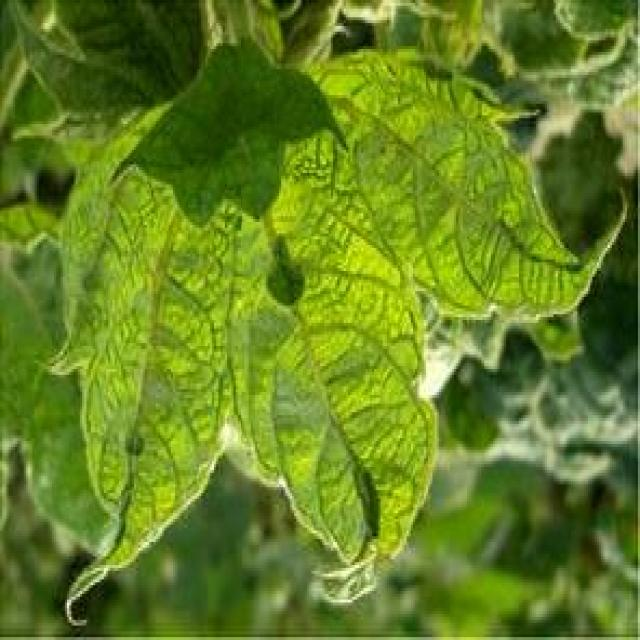Leaf Curl Virus: (92, 28, 413, 508)
